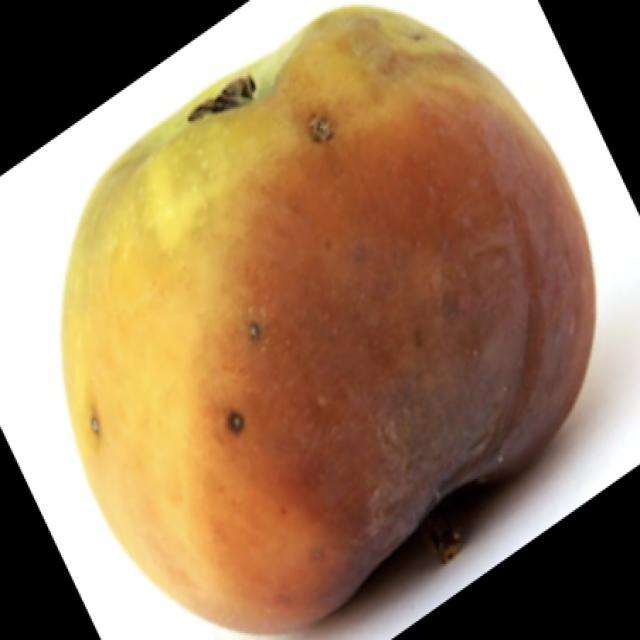Rotten: (55, 13, 590, 612)
